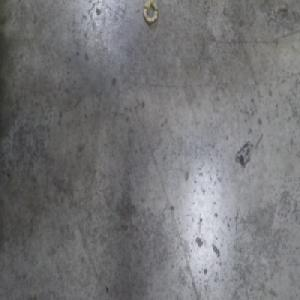Nut: (142, 0, 158, 28)
